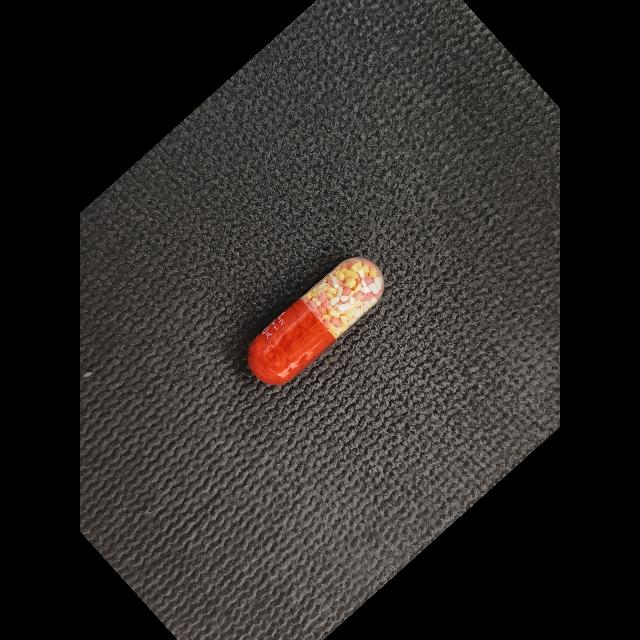Intact Capsule: (248, 257, 384, 385)
